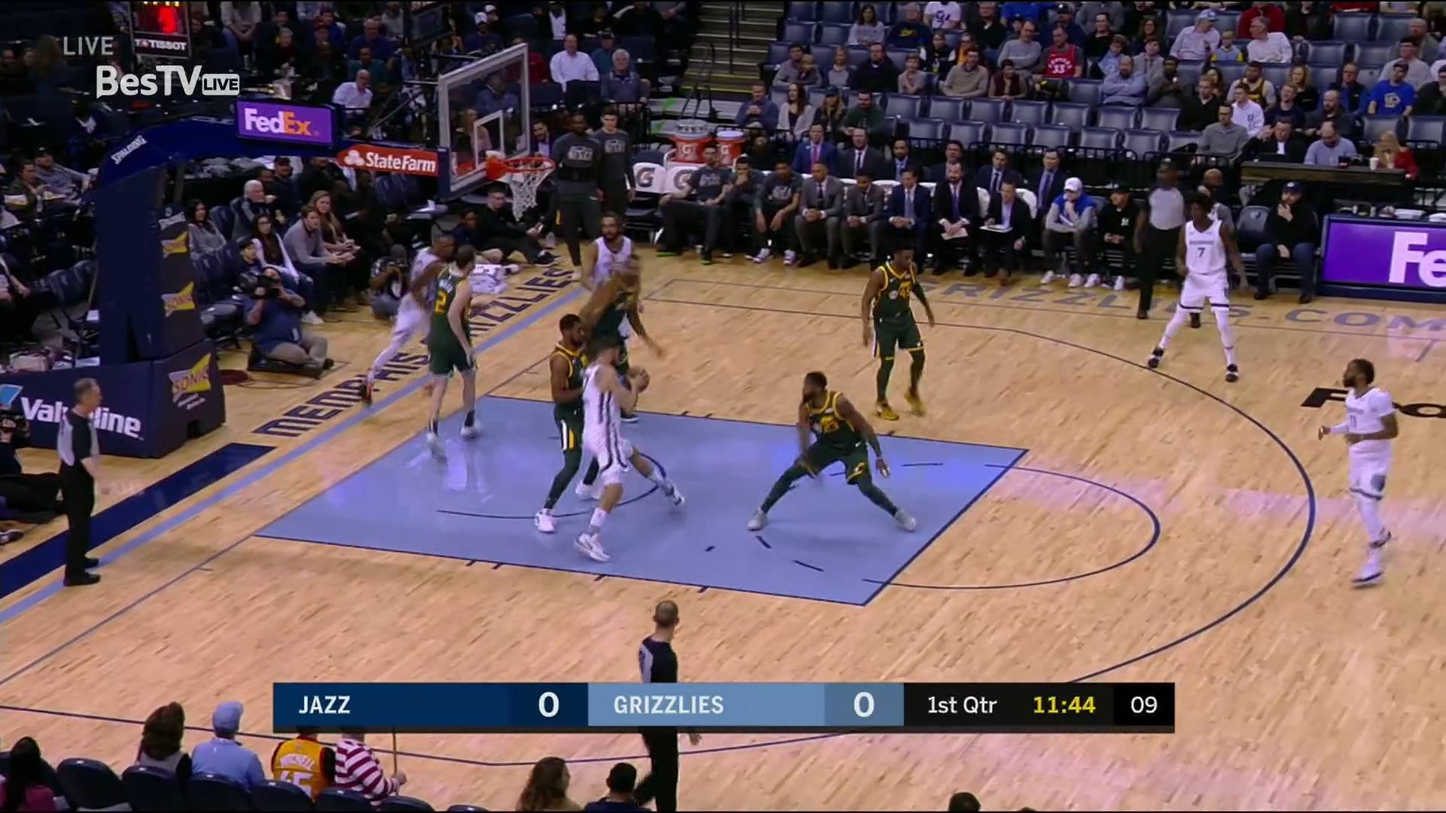basketball: (624, 366, 650, 393)
